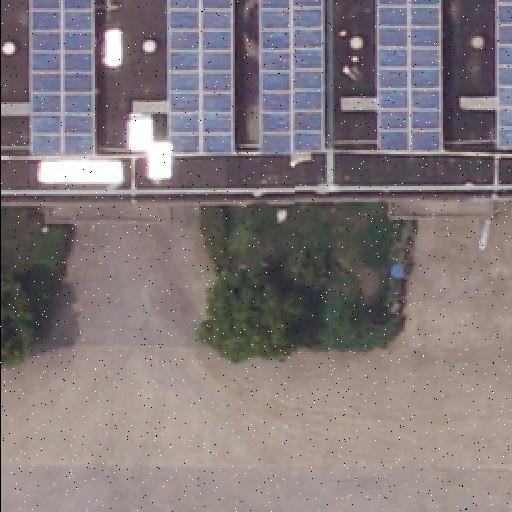solar-panel: (252, 0, 326, 155), (376, 0, 445, 156), (166, 0, 234, 158), (30, 0, 96, 156), (490, 0, 512, 154)
